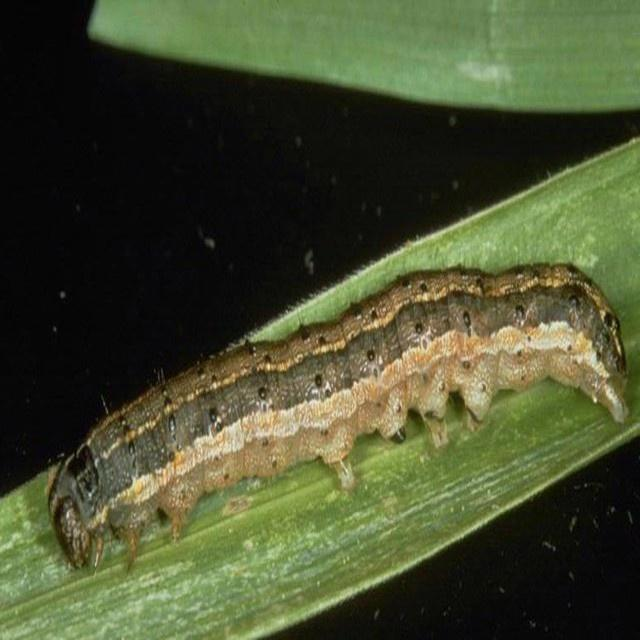gusano_cogollero: (55, 378, 330, 572)
